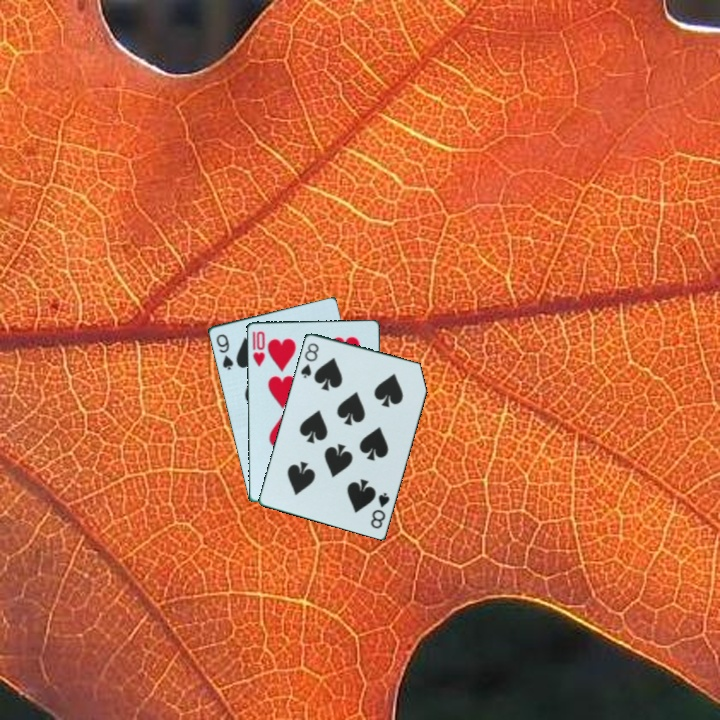10h: (249, 328, 267, 369)
8s: (367, 488, 392, 531), (297, 339, 321, 381)
9s: (212, 330, 236, 373)
